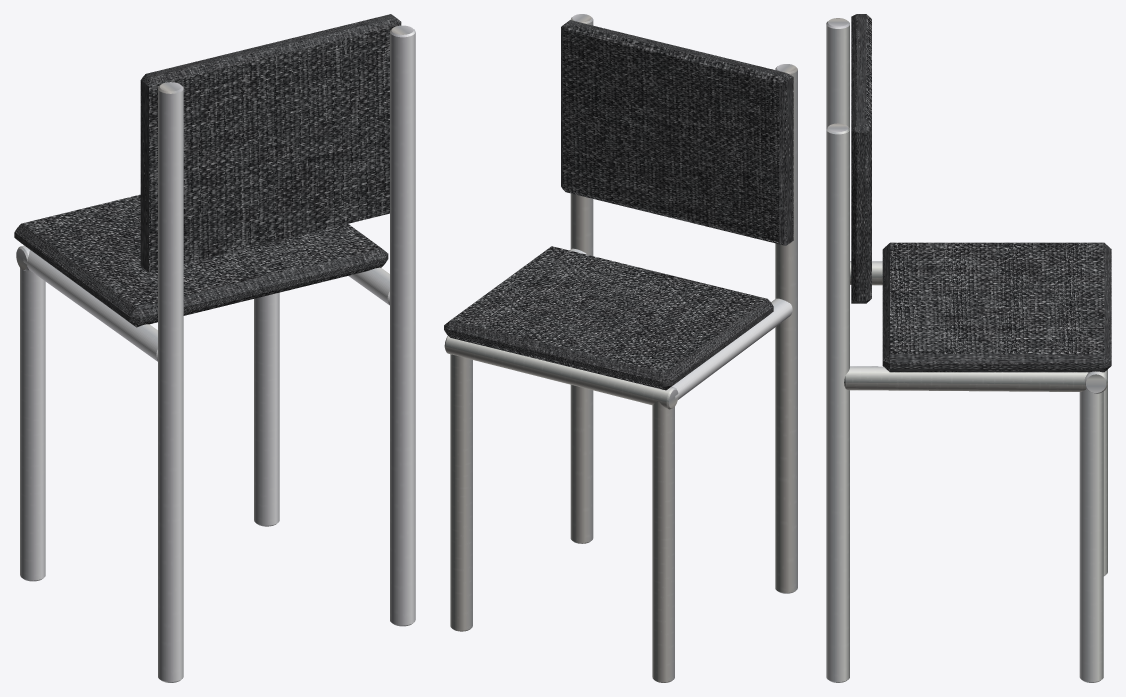
File: Chair.glb
The picture shows the model from 3 angles, left to right: view 1: azimuth 30°, elevation 25°; view 2: azimuth 150°, elevation 25°; view 3: azimuth 270°, elevation 25°; orthographic projection. The views are drawn at different scales.
Parts seen in each view (by area): view 1: Basis; view 2: Basis; view 3: Basis.
Part boxes in pixels (<box>): Basis: <box>14,14,415,682</box>; Basis: <box>444,14,797,682</box>; Basis: <box>826,14,1111,682</box>.
Size of the model in its own units: 0.238 by 0.5208 by 0.2429.
2 materials, 2 textured.
